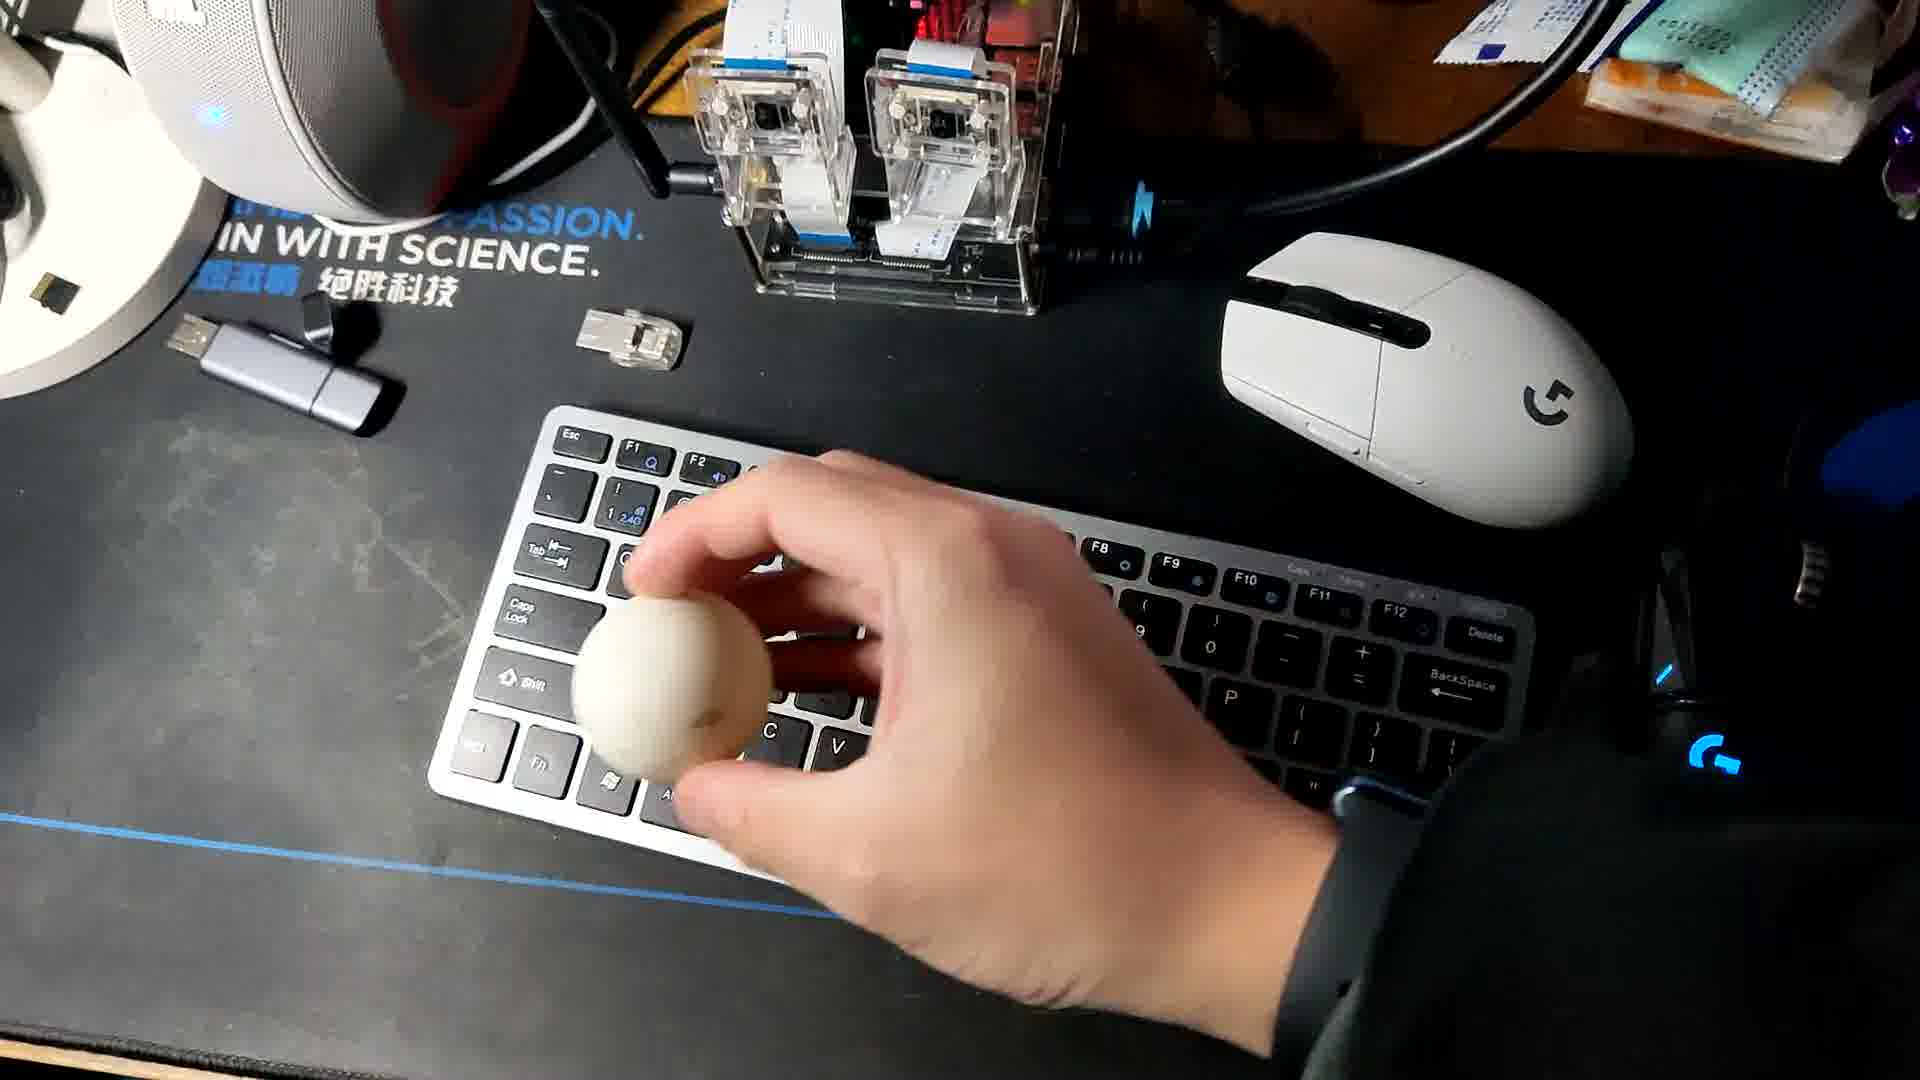Ball: (570, 593, 770, 786)
